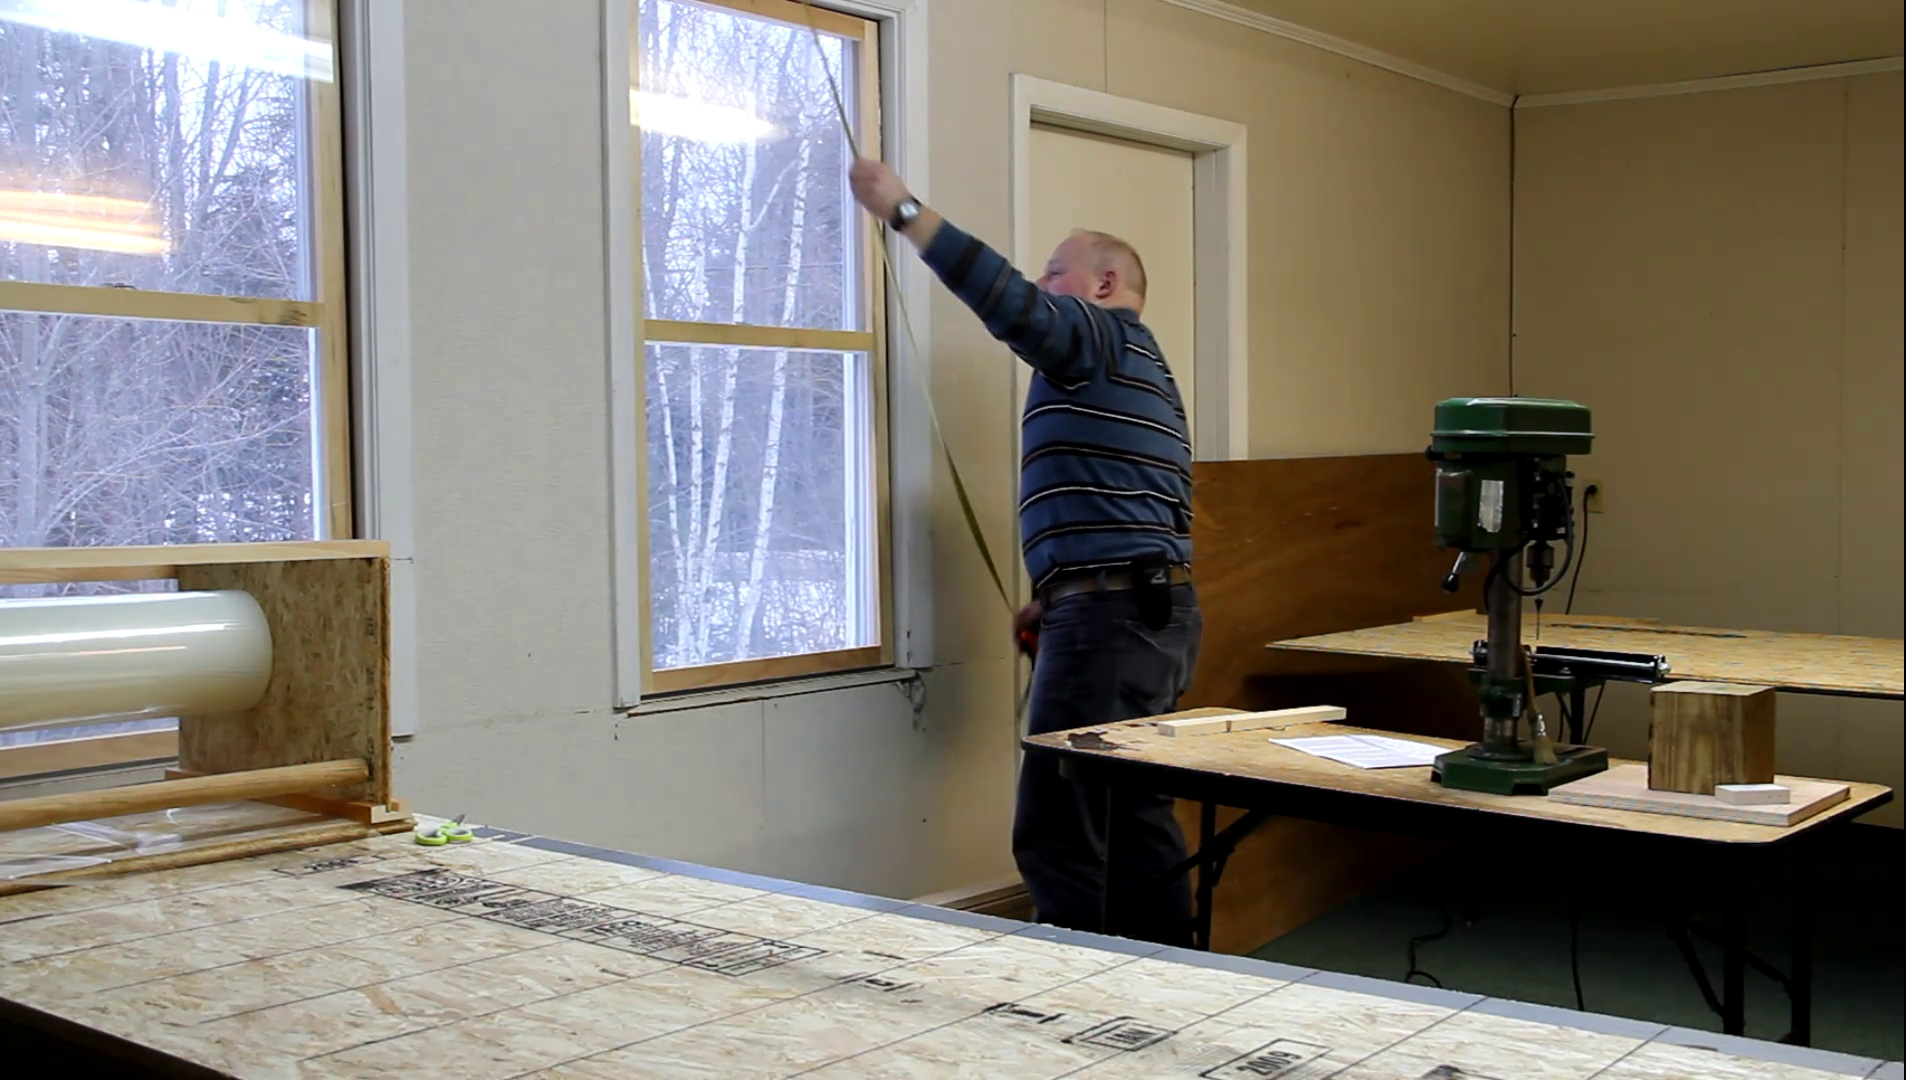person: (849, 157, 1202, 949)
